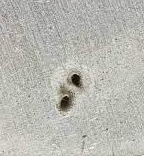Spalling: (55, 91, 76, 115), (67, 69, 85, 91)
